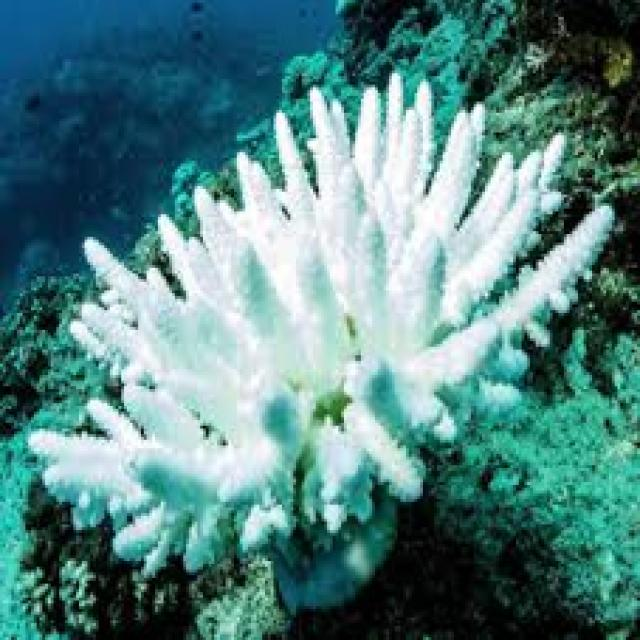Bleached: (29, 74, 613, 610), (438, 390, 638, 630)
